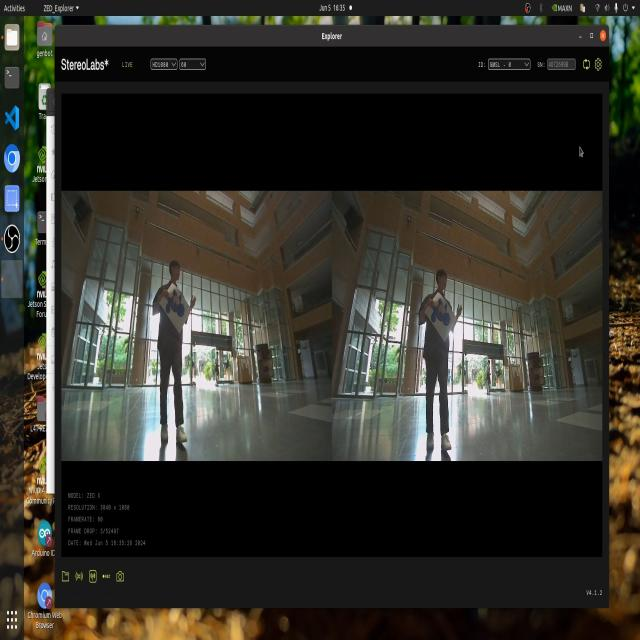blue: (164, 289, 192, 327), (431, 293, 455, 335)
